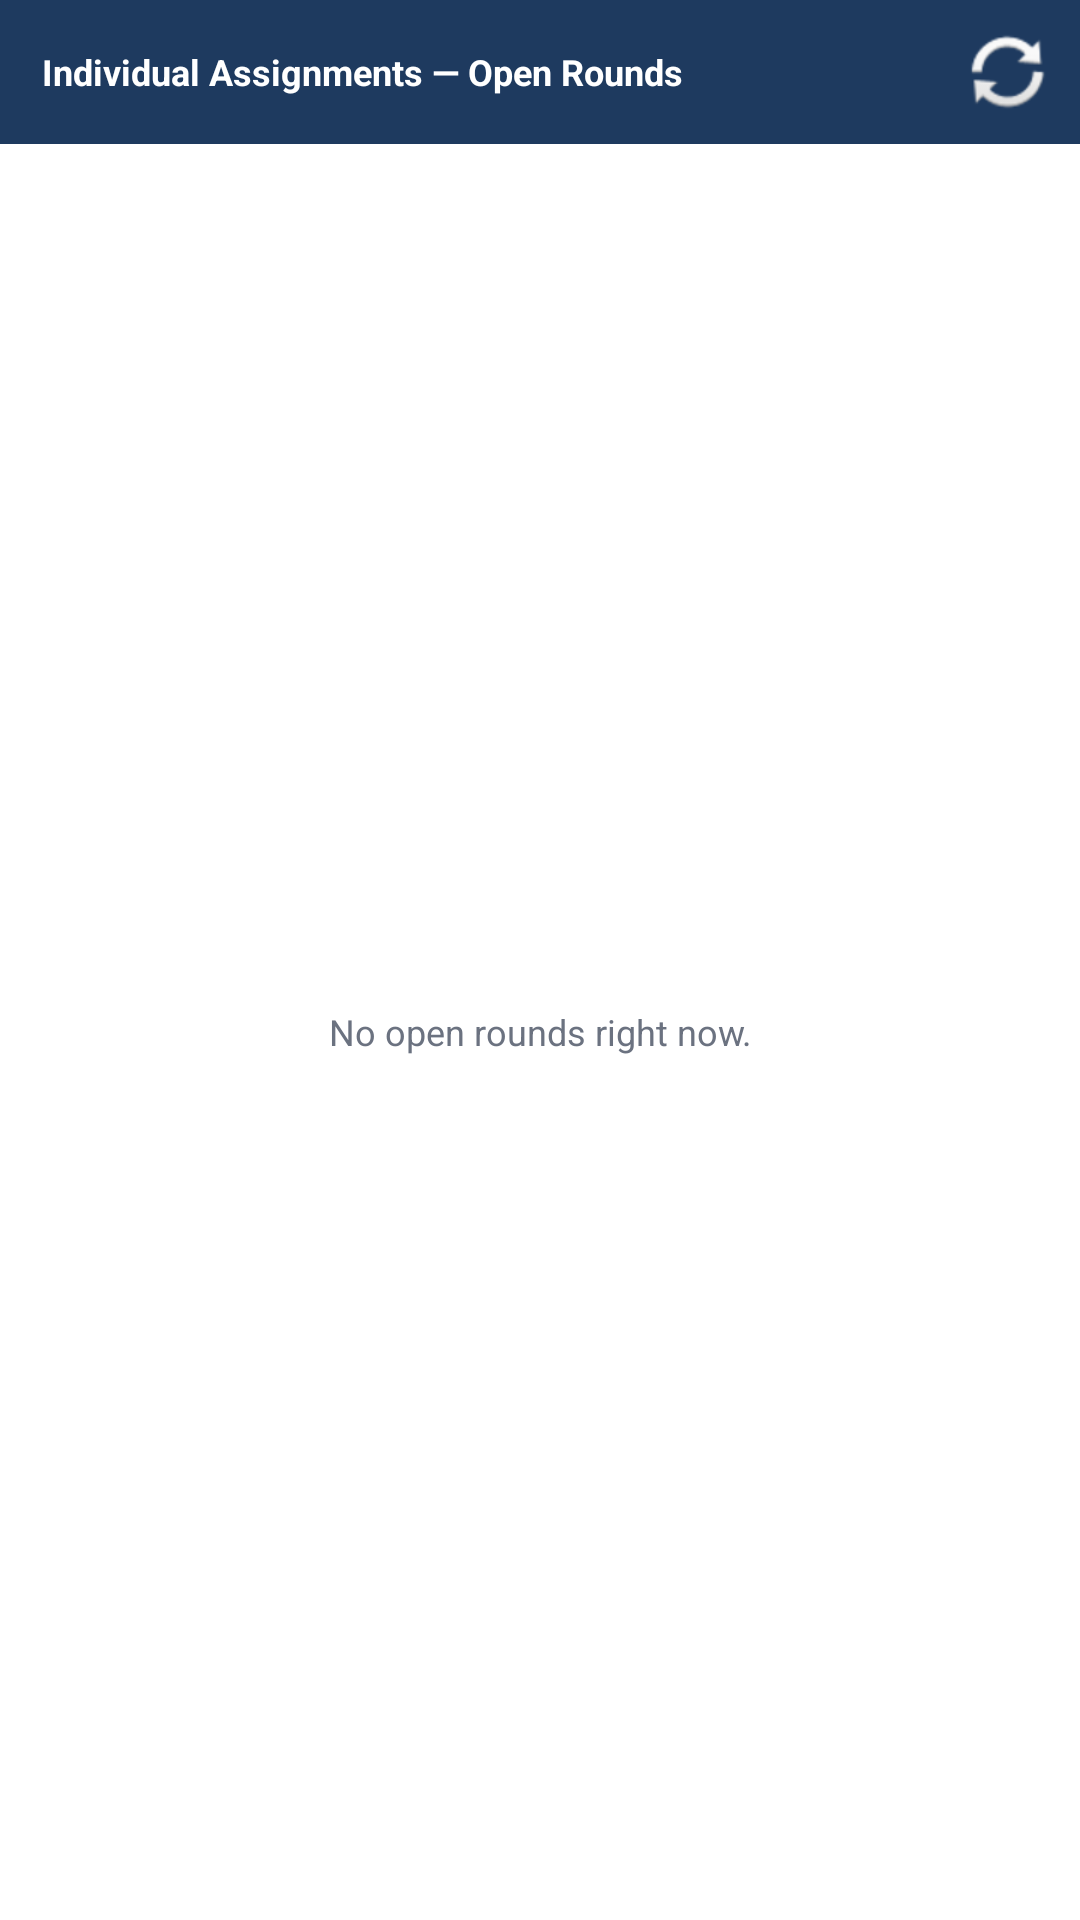

Named icons in this screenshot (1080x1920) and their centers, (x,y):
Refresh: (1007,72)
